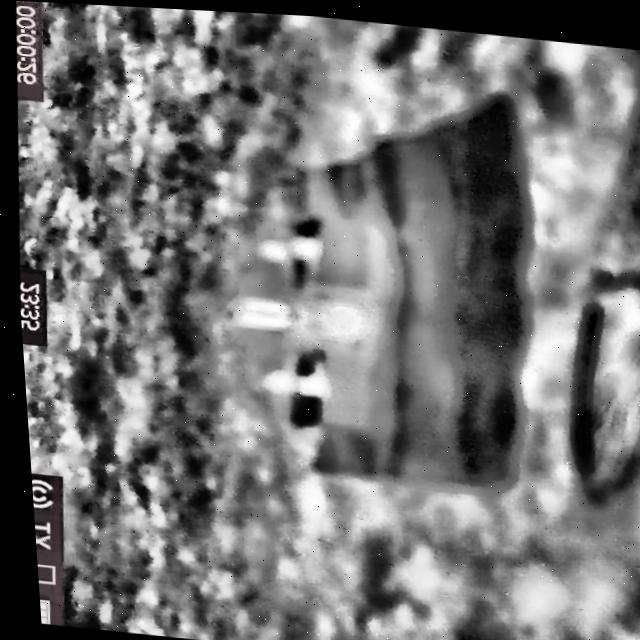drone: (213, 226, 382, 407)
